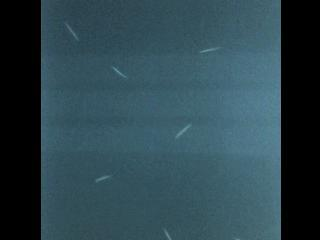scratch: (59, 19, 88, 46), (169, 120, 196, 143), (108, 60, 130, 85), (90, 168, 117, 188), (197, 41, 221, 59), (160, 225, 175, 240)
